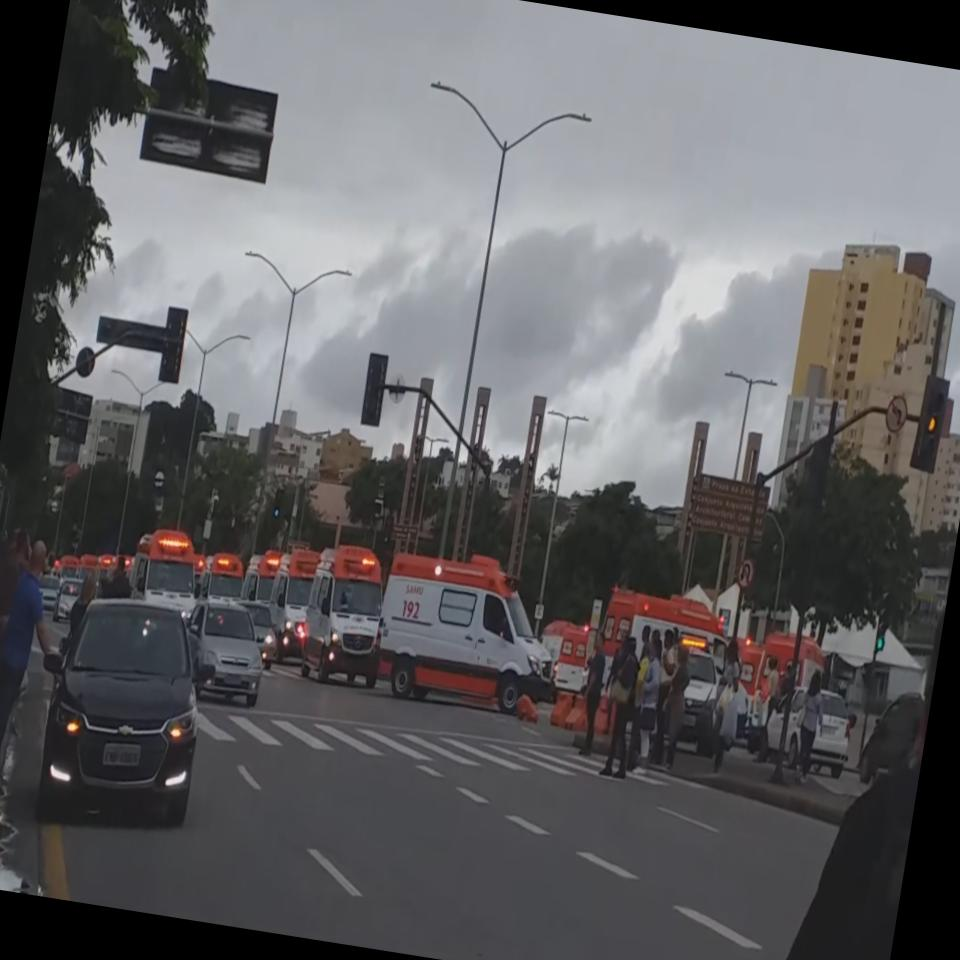bombeiro: (369, 542, 571, 725), (296, 541, 397, 691), (259, 544, 324, 666), (125, 521, 207, 611), (194, 547, 250, 613)
